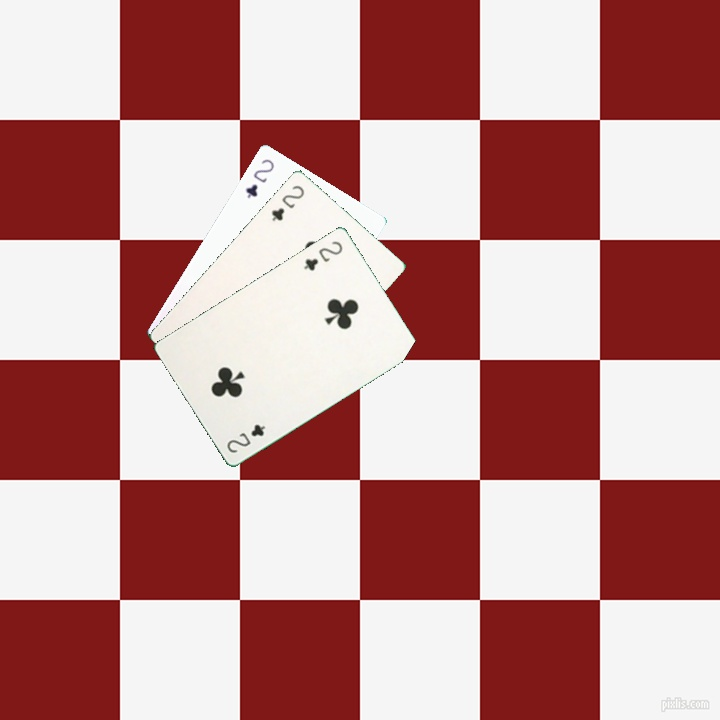2c: (267, 181, 307, 224), (241, 155, 277, 201), (299, 237, 345, 273), (222, 420, 268, 456)
